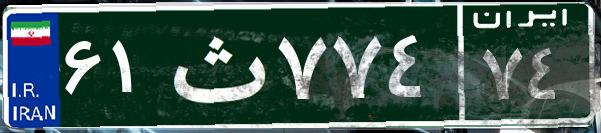1: (110, 28, 158, 105)
4: (385, 28, 445, 110), (525, 38, 570, 115)
6: (57, 26, 110, 107)
7: (273, 28, 330, 110), (330, 28, 385, 110), (475, 38, 525, 113)
ث: (158, 15, 273, 115)
